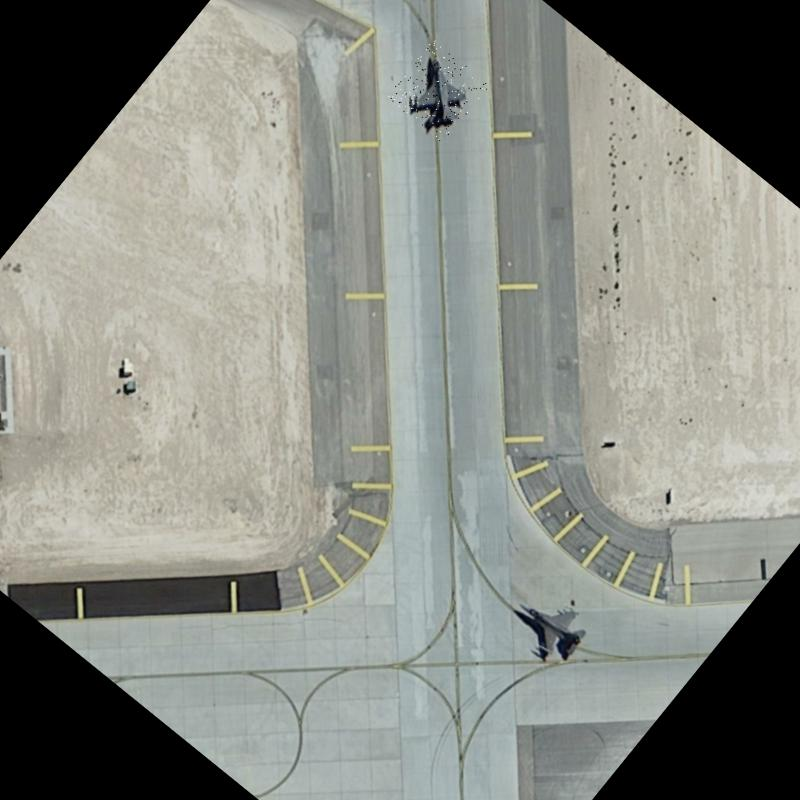A5: (498, 572, 604, 678), (385, 39, 489, 143)
